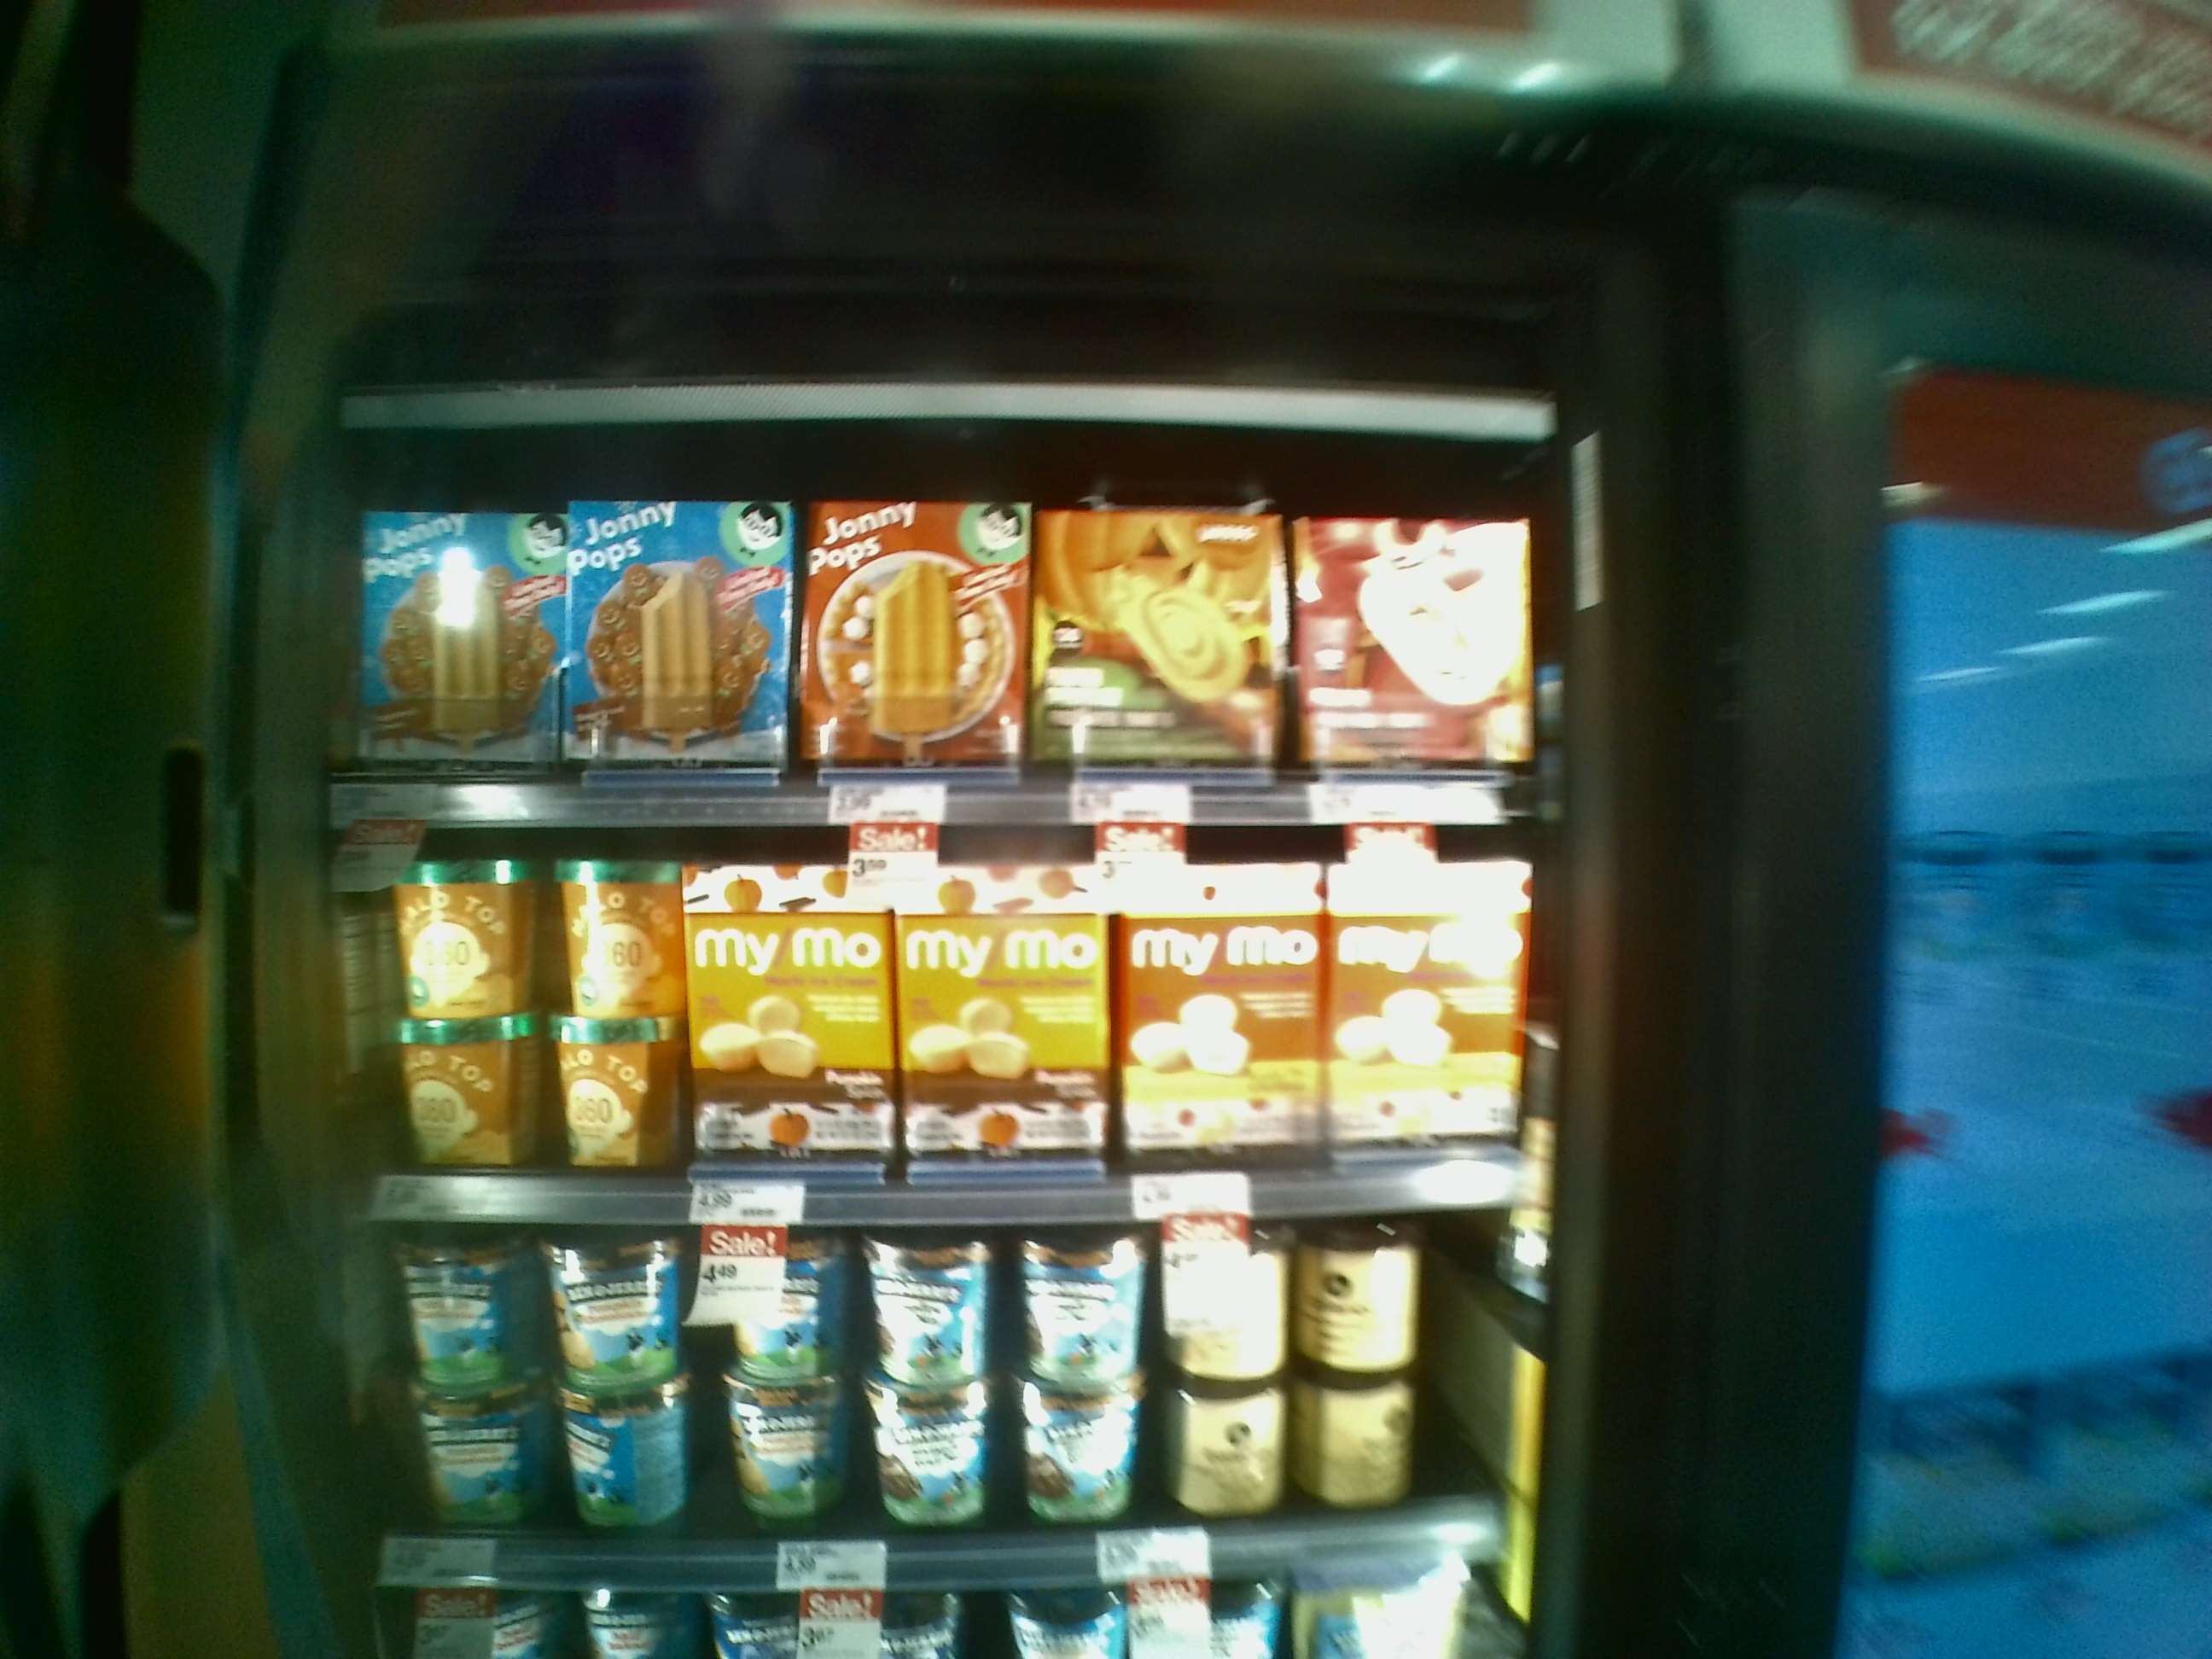shelf: (312, 774, 1536, 1202), (345, 422, 1529, 821), (345, 1197, 1529, 1544)
